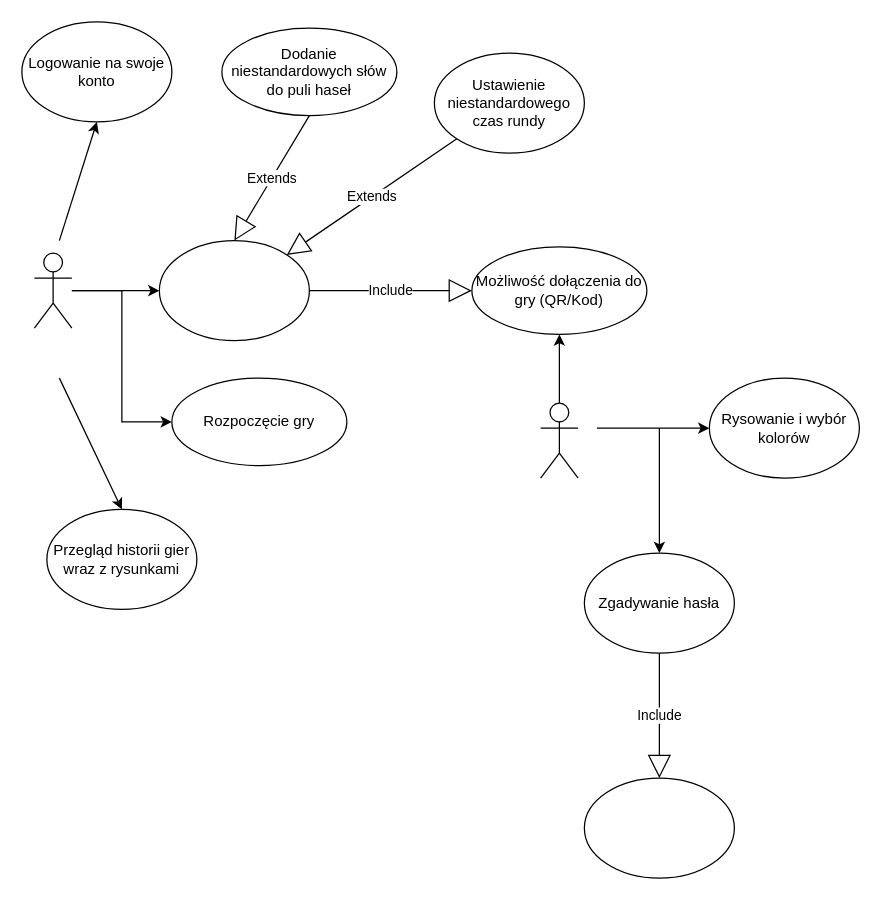
This 881x900 diagram has some shape labels left out. Here are the shapes that lost their labels. From the top down, the centre of each, then its label:
At (x=52, y=290): "Host gry".
At (x=233, y=290): "Tworzenie sesji gry".
At (x=558, y=440): "Gracz".
At (x=658, y=827): "Weryfikacja literówki i ukrywanie".
